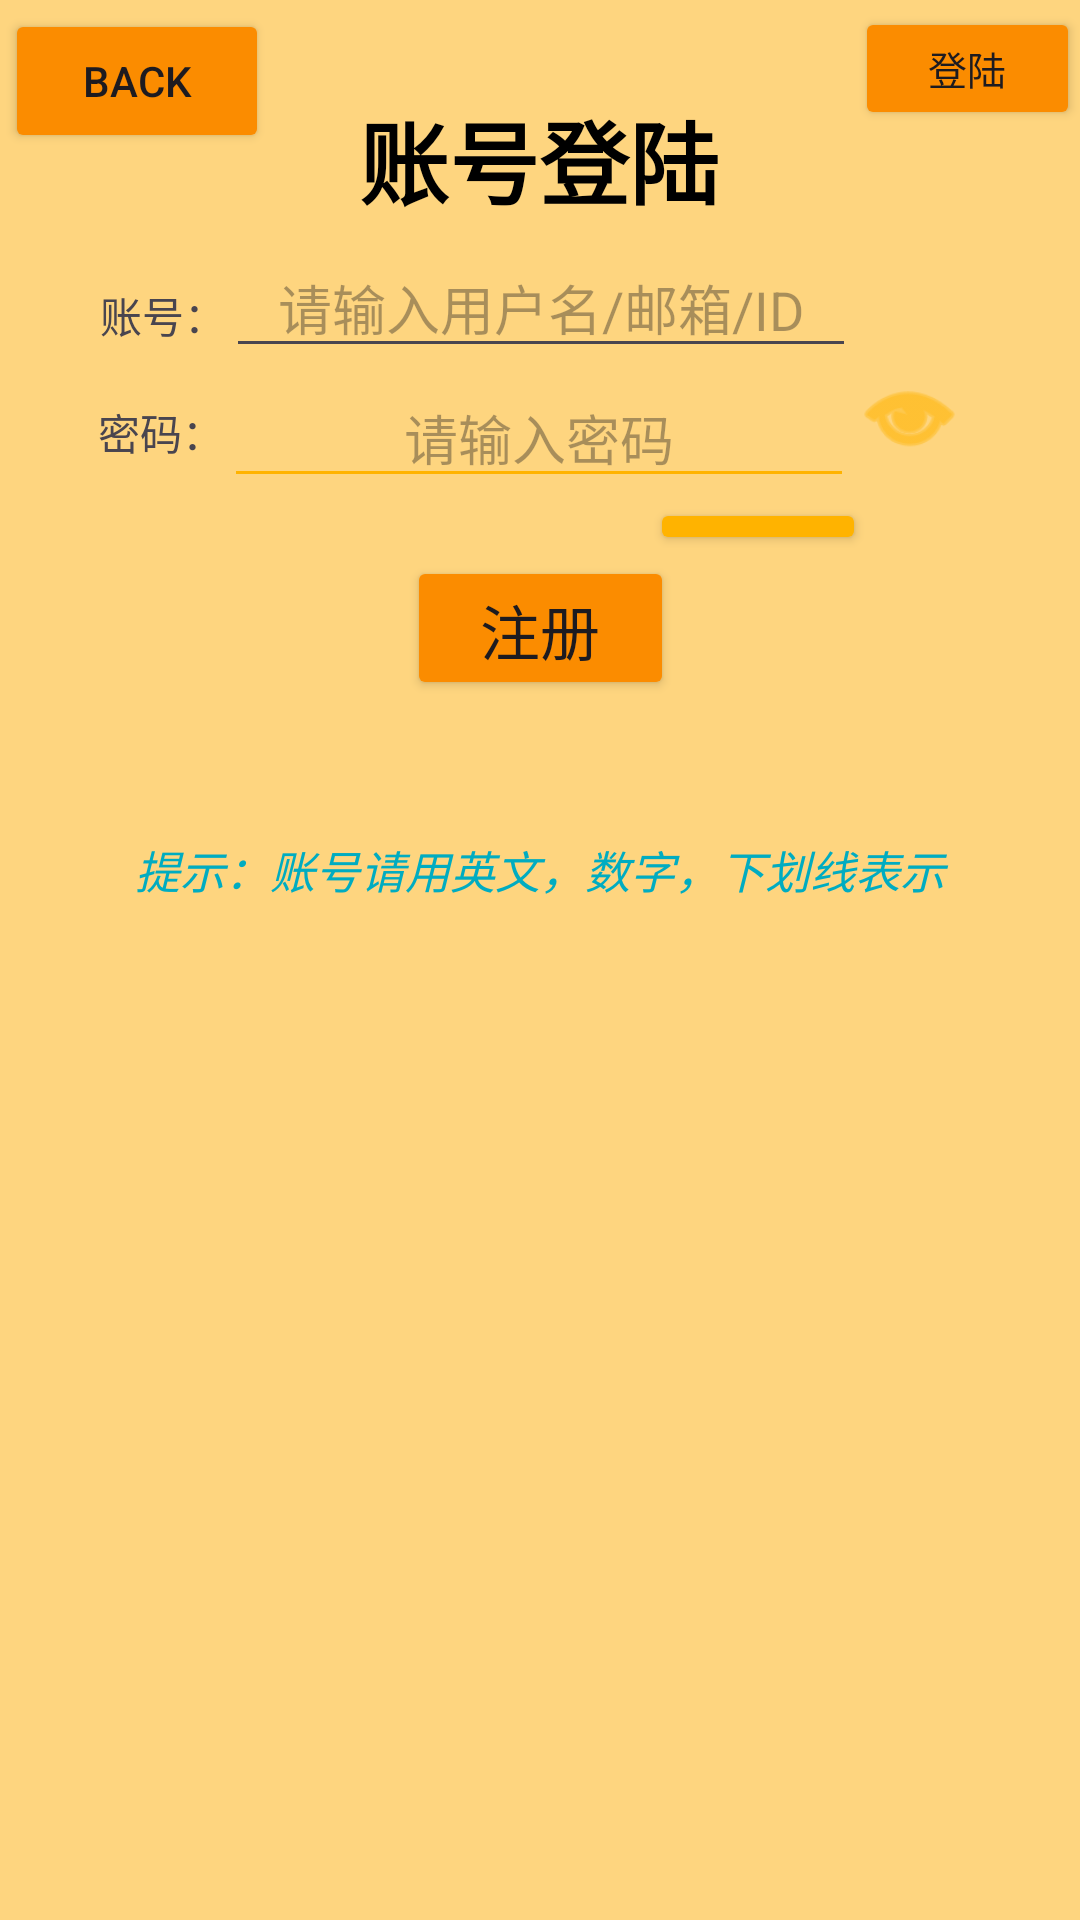

Where icons sit on this 1080*1920 app screen, as Rect(x1, y1, x2, y2):
view: Rect(865, 391, 954, 446)
